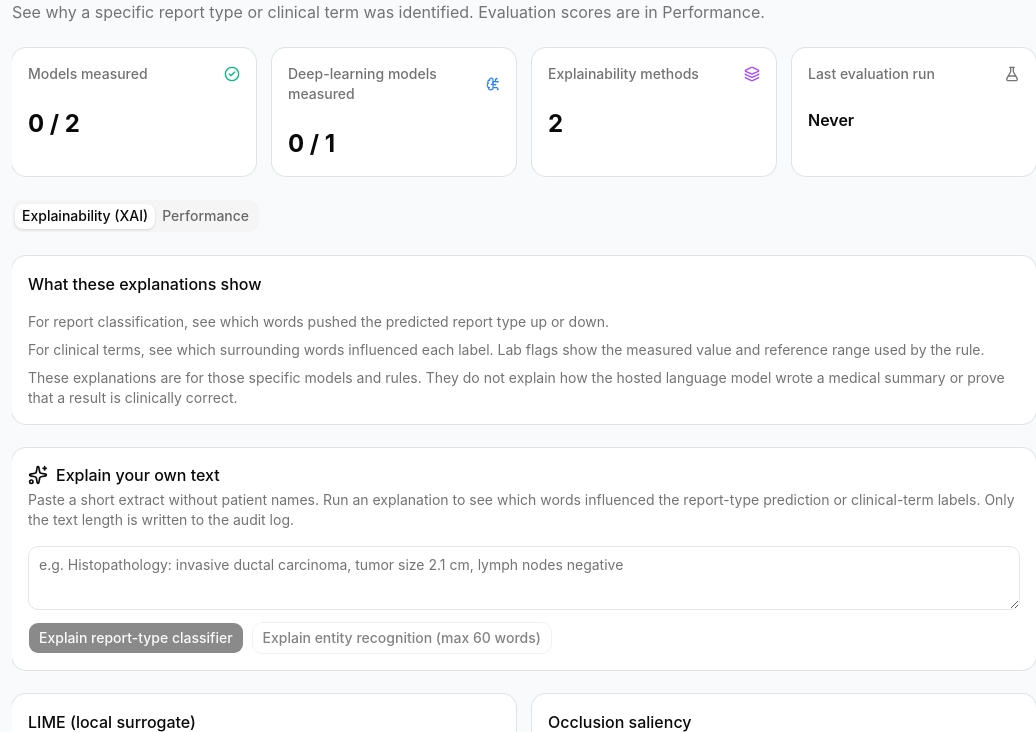
Test case: ModelPerformancePage › groups models by kind
The image size is (1036, 732).
Click the tab "Performance" at (206, 216), box left=155, top=204, right=256, bottom=228
(page scrolled)
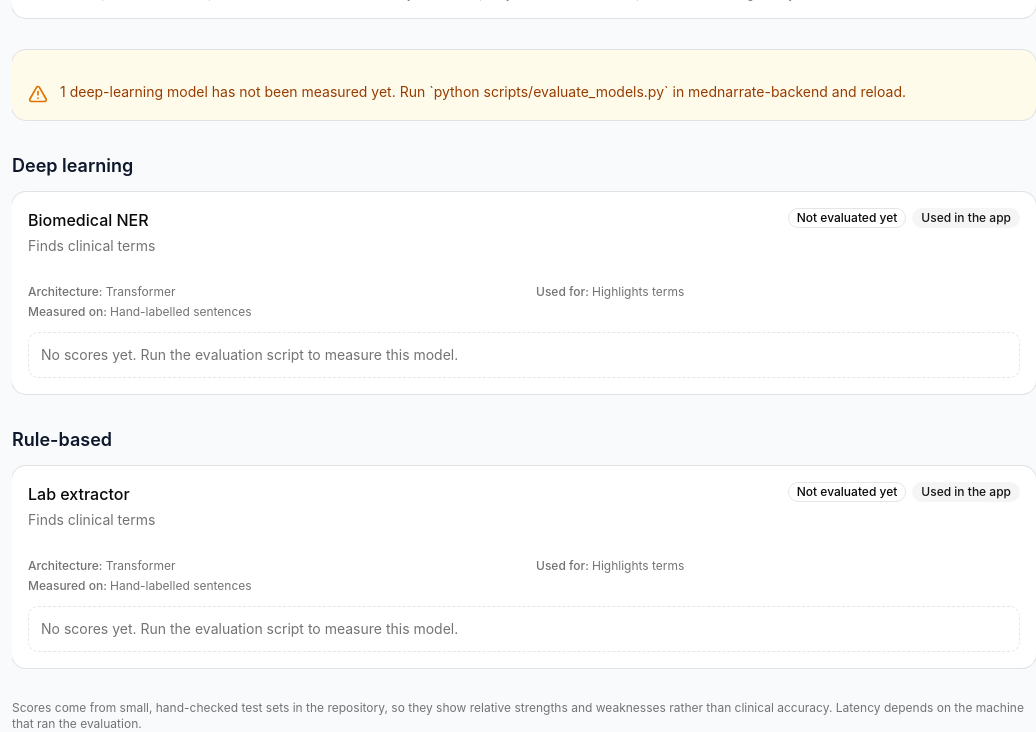
Expected: the heading "Deep learning" is shown, left=12, top=155, right=133, bottom=176
Expected: the heading "Rule-based" is shown, left=12, top=429, right=112, bottom=450
